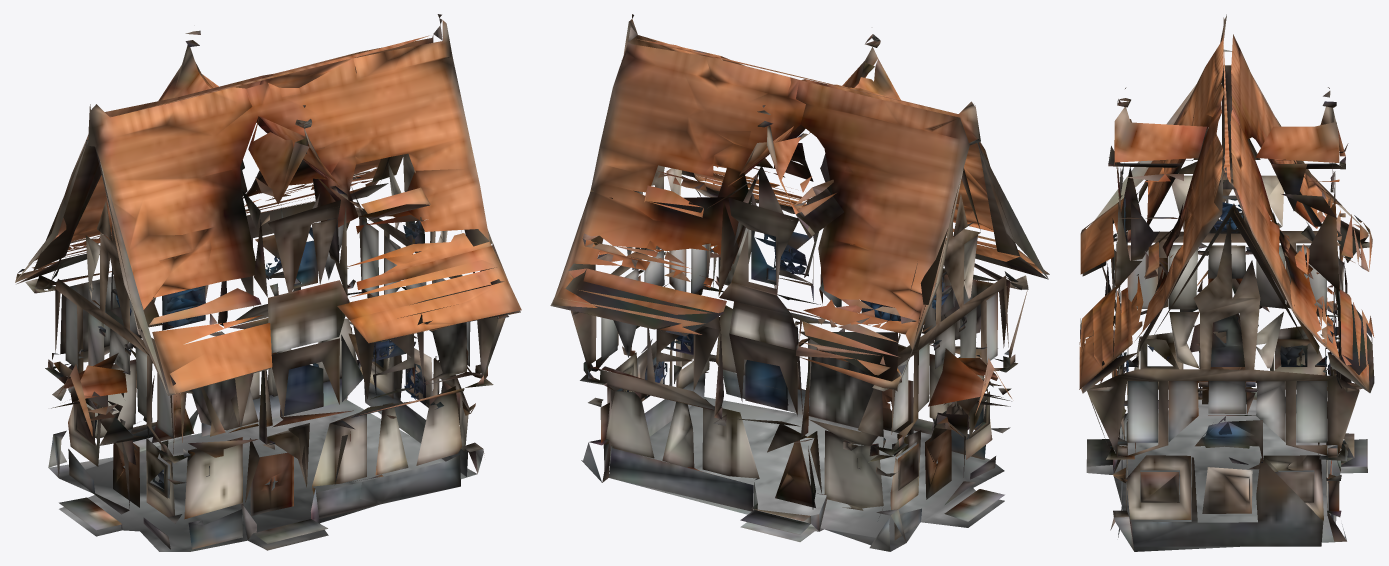
The model's file is Medieval_Cottage_town.glb.
3 renders of one model, left to right at view 1: azimuth 30°, elevation 25°; view 2: azimuth 150°, elevation 25°; view 3: azimuth 270°, elevation 25°, orthographic. The views are drawn at different scales.
Visible parts, largest first — view 1: Medieval_Cottage; view 2: Medieval_Cottage; view 3: Medieval_Cottage.
Boxes of the visible parts, <box> form: Medieval_Cottage: <box>15,14,521,551</box>; Medieval_Cottage: <box>550,14,1049,551</box>; Medieval_Cottage: <box>1079,14,1374,551</box>.
Size of the model in its own units: 1.88 by 1.99 by 1.36.
Materials: 1 (1 with a texture image).
